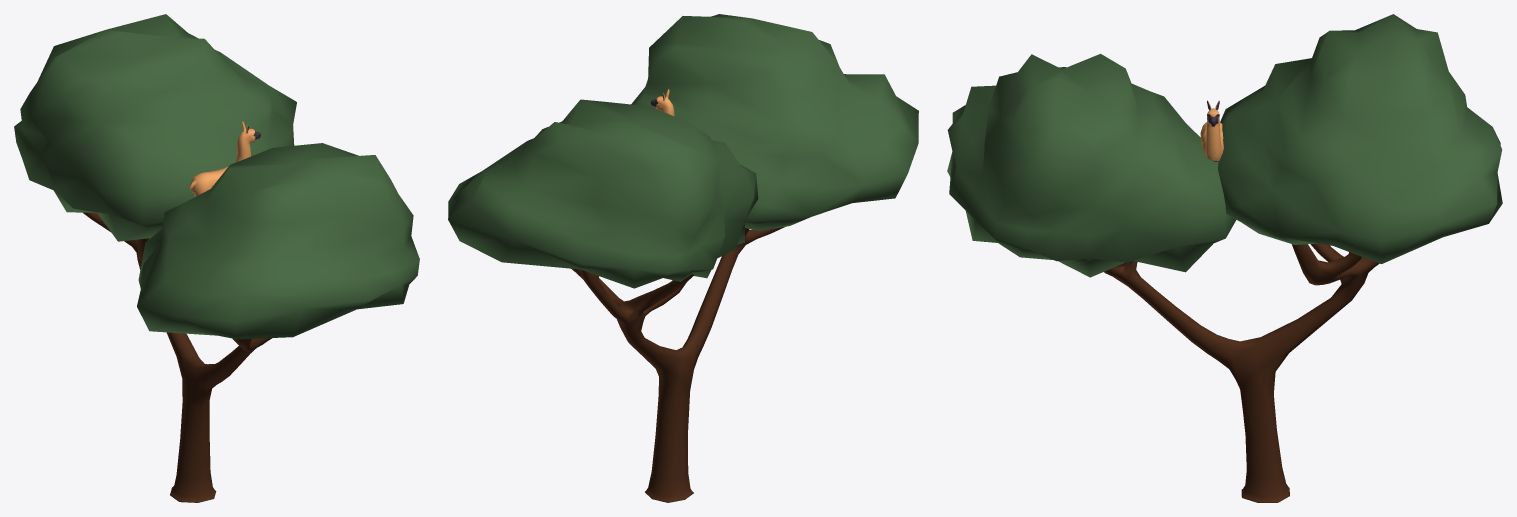
File: Tree-Alpaca-no1.gltf
3 renders of one model, left to right at view 1: azimuth 30°, elevation 25°; view 2: azimuth 150°, elevation 25°; view 3: azimuth 270°, elevation 25°, orthographic. The views are drawn at different scales.
Visible parts, largest first — view 1: Tree-Alpaca-no1; view 2: Tree-Alpaca-no1; view 3: Tree-Alpaca-no1.
Boxes of the visible parts, x1,y1,x2,y2 form: Tree-Alpaca-no1: (14,14,419,502); Tree-Alpaca-no1: (448,14,918,502); Tree-Alpaca-no1: (947,14,1502,502).
Bounding box in the file's own units: 1.89 × 2.48 × 2.77.
Materials: 1 (1 with a texture image).
